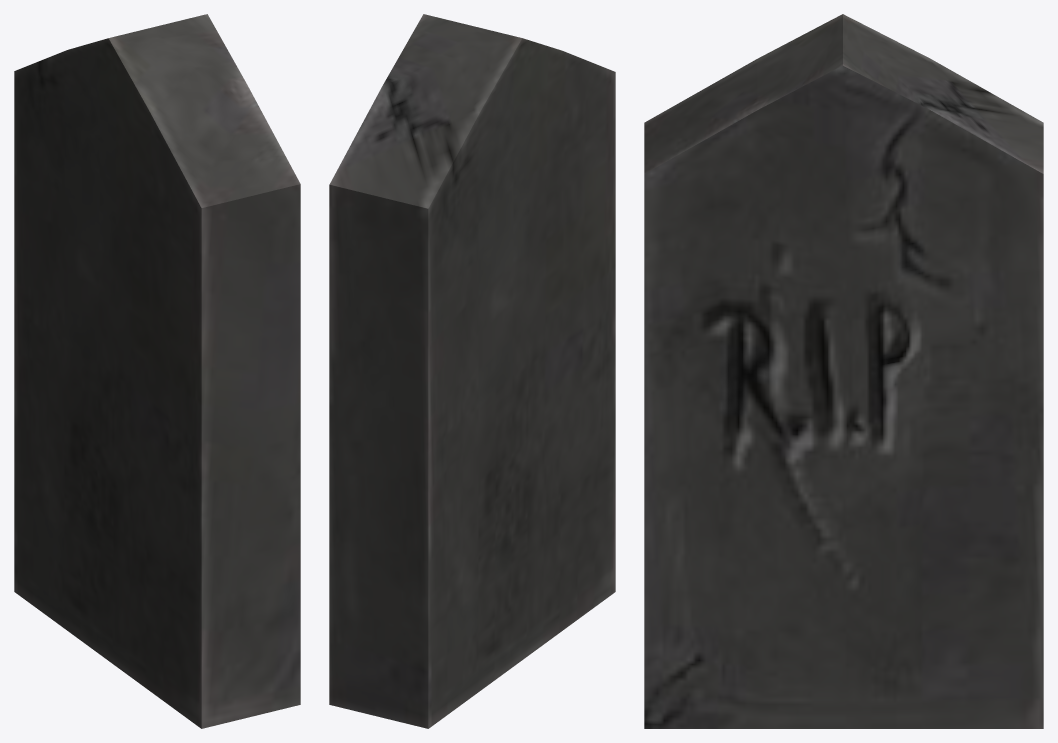
Rendered from peasant_tombstone_3_.fbx.
The picture shows the model from 3 angles, left to right: view 1: azimuth 30°, elevation 25°; view 2: azimuth 150°, elevation 25°; view 3: azimuth 270°, elevation 25°; orthographic projection. The views are drawn at different scales.
Parts seen in each view (by area): view 1: Peasant_Tombstone_3; view 2: Peasant_Tombstone_3; view 3: Peasant_Tombstone_3.
Part boxes in pixels (x1=…): Peasant_Tombstone_3: x1=14, y1=14, x2=300, y2=728; Peasant_Tombstone_3: x1=329, y1=14, x2=615, y2=728; Peasant_Tombstone_3: x1=644, y1=14, x2=1043, y2=728.
Size of the model in its own units: 0.8995 by 5.4 by 2.94.
